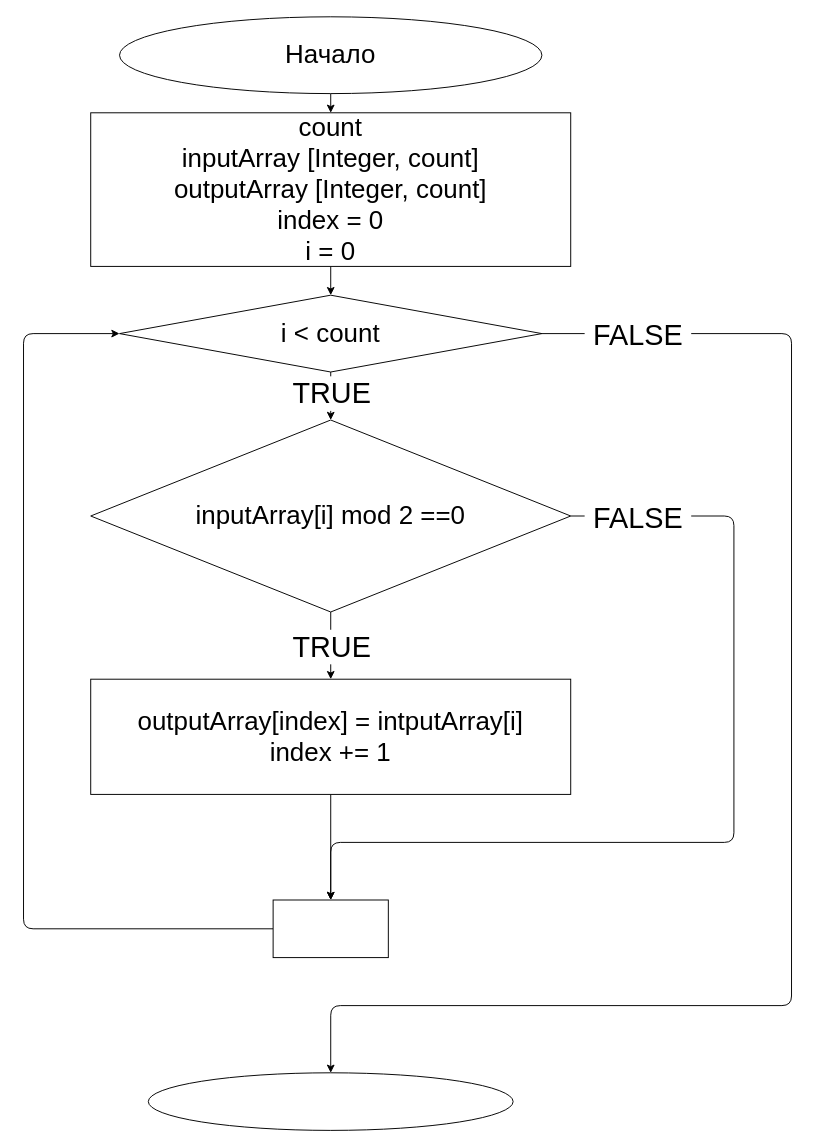
This 816x1147 diagram has some shape labels left out. The shapes that lost their labels are listed below. From the top down, each one's centre as x and y in pixels, then its label:
the point at 330,928: i += 1
the point at 330,1101: Окончание
